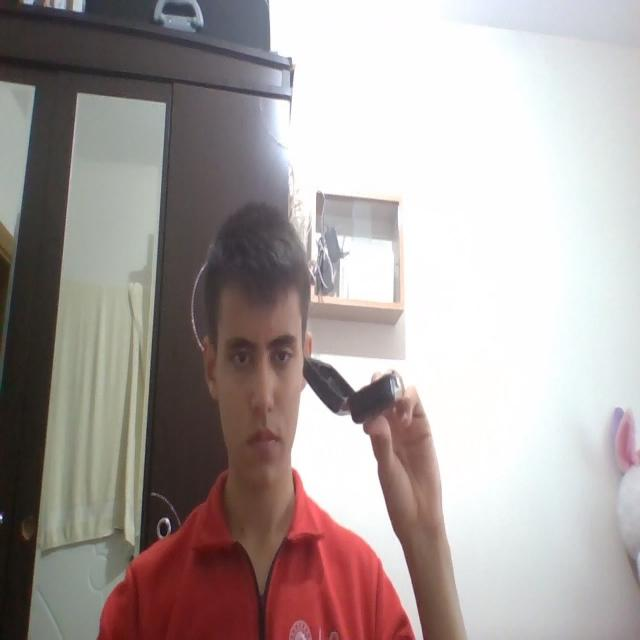glasses-box: (302, 355, 402, 425)
